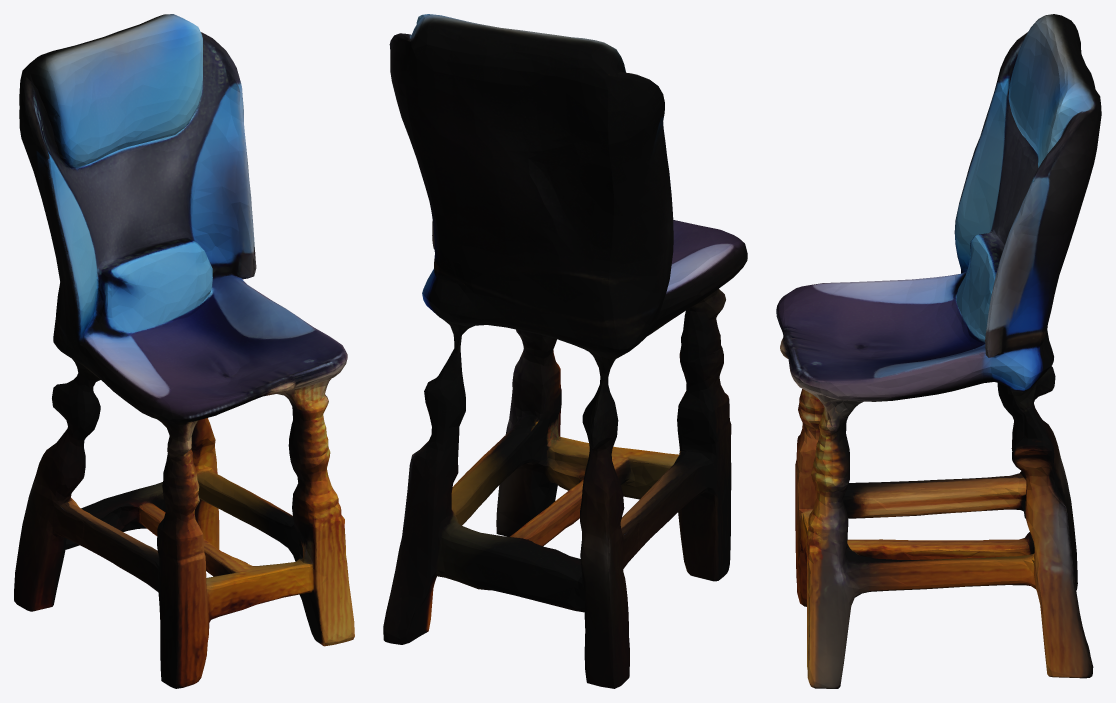
The model's file is Chair4.glb.
The picture shows the model from 3 angles, left to right: view 1: azimuth 30°, elevation 25°; view 2: azimuth 150°, elevation 25°; view 3: azimuth 270°, elevation 25°; orthographic projection. The views are drawn at different scales.
Parts seen in each view (by area): view 1: world; view 2: world; view 3: world.
Part boxes in pixels (<box>): world: <box>14,14,354,688</box>; world: <box>383,14,747,688</box>; world: <box>776,14,1101,688</box>.
Size of the model in its own units: 0.4388 by 1 by 0.5118.
Materials: 1 (1 with a texture image).
